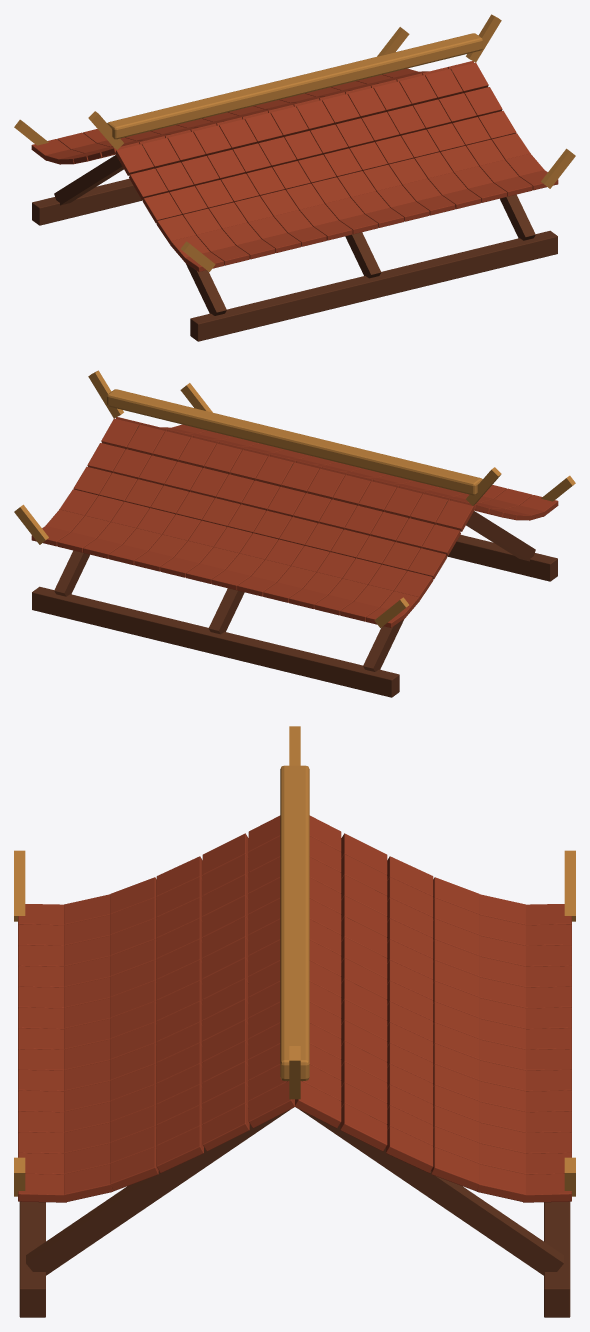
Rendered from source-edit.glb.
The picture shows the model from 3 angles, top to bottom: view 1: azimuth 30°, elevation 25°; view 2: azimuth 150°, elevation 25°; view 3: azimuth 270°, elevation 25°; orthographic projection. The views are drawn at different scales.
Parts seen in each view (by area): view 1: ROOF_EaveBeam, ROOF_Ridge, ROOF_EaveBeam.001, ROOF_Rafter.001, ROOF_Rafter, ROOF_Rafter.004, ROOF_Rafter.002, ROOF_Tile_-1_0_0, ROOF_Tile_-1_1_0, ROOF_Tile_-1_2_0, ROOF_Tile_-1_0_10, ROOF_Tile_-1_0_5 (+81 smaller); view 2: ROOF_EaveBeam.001, ROOF_Ridge, ROOF_EaveBeam, ROOF_Rafter, ROOF_Rafter.001, ROOF_Rafter.005, ROOF_Rafter.003, ROOF_Tile_1_0_0, ROOF_Tile_1_1_0, ROOF_Tile_1_2_0, ROOF_Tile_1_0_10, ROOF_Tile_1_0_5 (+81 smaller); view 3: ROOF_Ridge, ROOF_Rafter.004, ROOF_Rafter.005, ROOF_EaveBeam, ROOF_EaveBeam.001, ROOF_Tile_-1_3_13, ROOF_Tile_1_3_13, ROOF_Tile_-1_1_13, ROOF_Tile_1_1_13, ROOF_Tile_-1_2_13, ROOF_Tile_1_2_13, ROOF_Tile_-1_4_13 (+137 smaller).
Boxes of the visible parts, left/top/right/bottom form: ROOF_EaveBeam: left=190, top=230, right=557, bottom=341; ROOF_Ridge: left=107, top=33, right=482, bottom=139; ROOF_EaveBeam.001: left=32, top=178, right=142, bottom=225; ROOF_Rafter.001: left=54, top=155, right=123, bottom=205; ROOF_Rafter: left=142, top=145, right=226, bottom=315; ROOF_Rafter.004: left=451, top=70, right=535, bottom=240; ROOF_Rafter.002: left=297, top=108, right=381, bottom=278; ROOF_Tile_-1_0_0: left=115, top=144, right=153, bottom=175; ROOF_Tile_-1_1_0: left=129, top=168, right=167, bottom=199; ROOF_Tile_-1_2_0: left=142, top=192, right=181, bottom=223; ROOF_Tile_-1_0_10: left=373, top=81, right=411, bottom=112; ROOF_Tile_-1_0_5: left=244, top=113, right=282, bottom=143; ROOF_EaveBeam.001: left=32, top=586, right=399, bottom=697; ROOF_Ridge: left=107, top=389, right=482, bottom=495; ROOF_EaveBeam: left=447, top=534, right=557, bottom=581; ROOF_Rafter: left=466, top=511, right=535, bottom=561; ROOF_Rafter.001: left=363, top=501, right=447, bottom=671; ROOF_Rafter.005: left=54, top=426, right=138, bottom=596; ROOF_Rafter.003: left=208, top=464, right=292, bottom=634; ROOF_Tile_1_0_0: left=436, top=500, right=474, bottom=531; ROOF_Tile_1_1_0: left=422, top=524, right=460, bottom=555; ROOF_Tile_1_2_0: left=408, top=548, right=447, bottom=579; ROOF_Tile_1_0_10: left=178, top=437, right=216, bottom=468; ROOF_Tile_1_0_5: left=307, top=469, right=345, bottom=499; ROOF_Ridge: left=280, top=765, right=309, bottom=1080; ROOF_Rafter.004: left=26, top=1081, right=290, bottom=1275; ROOF_Rafter.005: left=299, top=1081, right=563, bottom=1275; ROOF_EaveBeam: left=19, top=1201, right=45, bottom=1317; ROOF_EaveBeam.001: left=544, top=1201, right=570, bottom=1317; ROOF_Tile_-1_3_13: left=110, top=1147, right=158, bottom=1191; ROOF_Tile_1_3_13: left=431, top=1147, right=479, bottom=1191; ROOF_Tile_-1_1_13: left=202, top=1103, right=249, bottom=1151; ROOF_Tile_1_1_13: left=340, top=1103, right=387, bottom=1151; ROOF_Tile_-1_2_13: left=156, top=1126, right=203, bottom=1173; ROOF_Tile_1_2_13: left=386, top=1126, right=433, bottom=1173; ROOF_Tile_-1_4_13: left=64, top=1164, right=113, bottom=1201.
Bounding box in the file's own units: 4.78 × 1.93 × 3.43.
